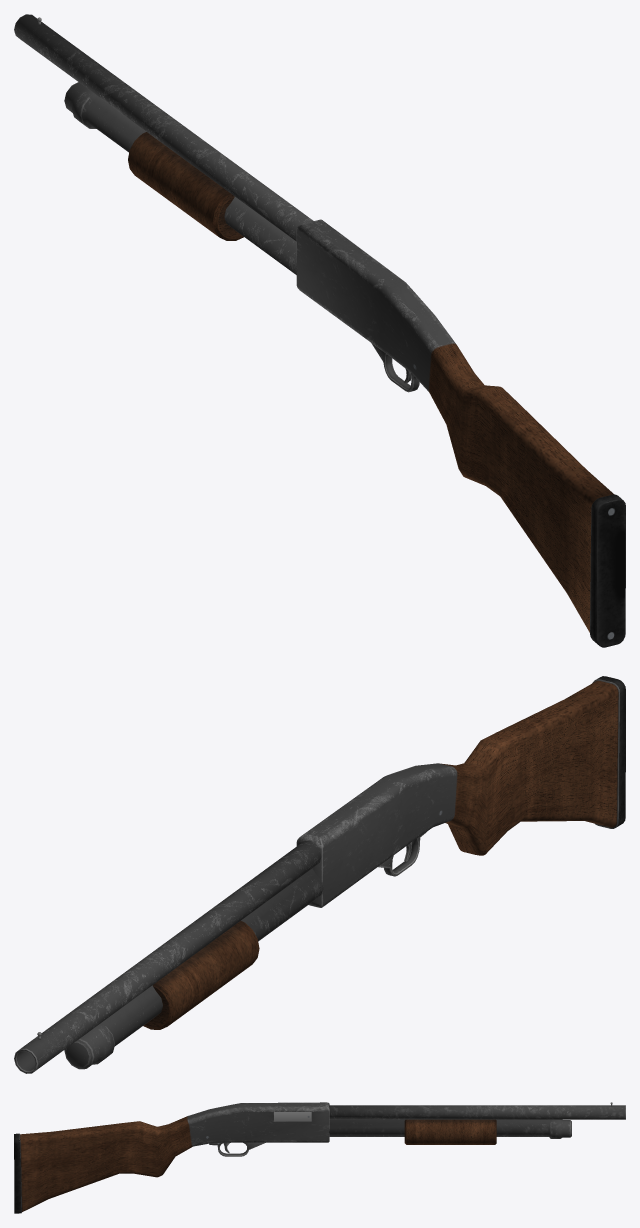
File: gun.glb
3 renders of one model, top to bottom at view 1: azimuth 30°, elevation 25°; view 2: azimuth 150°, elevation 25°; view 3: azimuth 270°, elevation 25°, orthographic. The views are drawn at different scales.
Parts seen in each view (by area): view 1: Shotgun, Fore_Stock; view 2: Shotgun, Fore_Stock; view 3: Shotgun, Fore_Stock, Ejection_Port.
Part boxes in pixels (<box>): Shotgun: <box>14,14,625,647</box>; Fore_Stock: <box>128,132,243,240</box>; Shotgun: <box>14,676,625,1073</box>; Fore_Stock: <box>143,921,259,1029</box>; Shotgun: <box>14,1102,625,1213</box>; Fore_Stock: <box>404,1119,496,1144</box>; Ejection_Port: <box>274,1112,311,1121</box>.
Bounding box in the file's own units: 0.0562 × 0.2408 × 1.22.
1 material, 1 textured.
